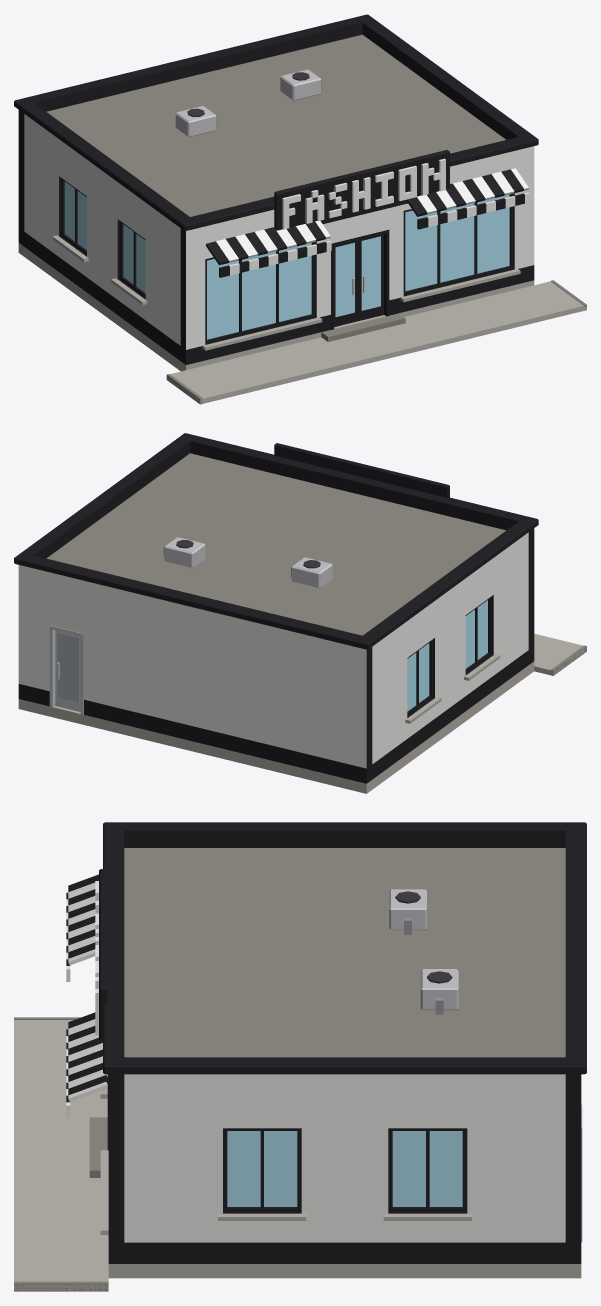
File: ClothingStore.fbx
3 views of the same model, one above another, from view 1: azimuth 30°, elevation 25°; view 2: azimuth 150°, elevation 25°; view 3: azimuth 270°, elevation 25° (orthographic). The views are drawn at different scales.
Parts seen in each view (by area): view 1: ClothingStore, ClothingStore_Roof, ClothingStore_Glass, ClothingStore_Sign, ClothingStore_DoorR, ClothingStore_DoorL; view 2: ClothingStore, ClothingStore_Roof, ClothingStore_Sign, ClothingStore_Glass, ClothingStore_BackDoor; view 3: ClothingStore, ClothingStore_Roof, ClothingStore_Glass, ClothingStore_Sign.
Part boxes in pixels (x1=…): ClothingStore: x1=14, y1=14, x2=586, y2=404; ClothingStore_Roof: x1=46, y1=34, x2=505, y2=216; ClothingStore_Glass: x1=64, y1=181, x2=509, y2=339; ClothingStore_Sign: x1=274, y1=150, x2=449, y2=230; ClothingStore_DoorR: x1=358, y1=234, x2=383, y2=320; ClothingStore_DoorL: x1=334, y1=240, x2=357, y2=326; ClothingStore: x1=14, y1=433, x2=586, y2=793; ClothingStore_Roof: x1=46, y1=453, x2=505, y2=635; ClothingStore_Sign: x1=274, y1=443, x2=449, y2=497; ClothingStore_Glass: x1=407, y1=600, x2=487, y2=711; ClothingStore_BackDoor: x1=55, y1=630, x2=80, y2=711; ClothingStore: x1=14, y1=822, x2=586, y2=1291; ClothingStore_Roof: x1=124, y1=848, x2=565, y2=1057; ClothingStore_Glass: x1=227, y1=1131, x2=462, y2=1206; ClothingStore_Sign: x1=95, y1=869, x2=106, y2=1040.
Bounding box in the file's own units: 40 × 16.1 × 36.35.
1 material, 1 textured.
